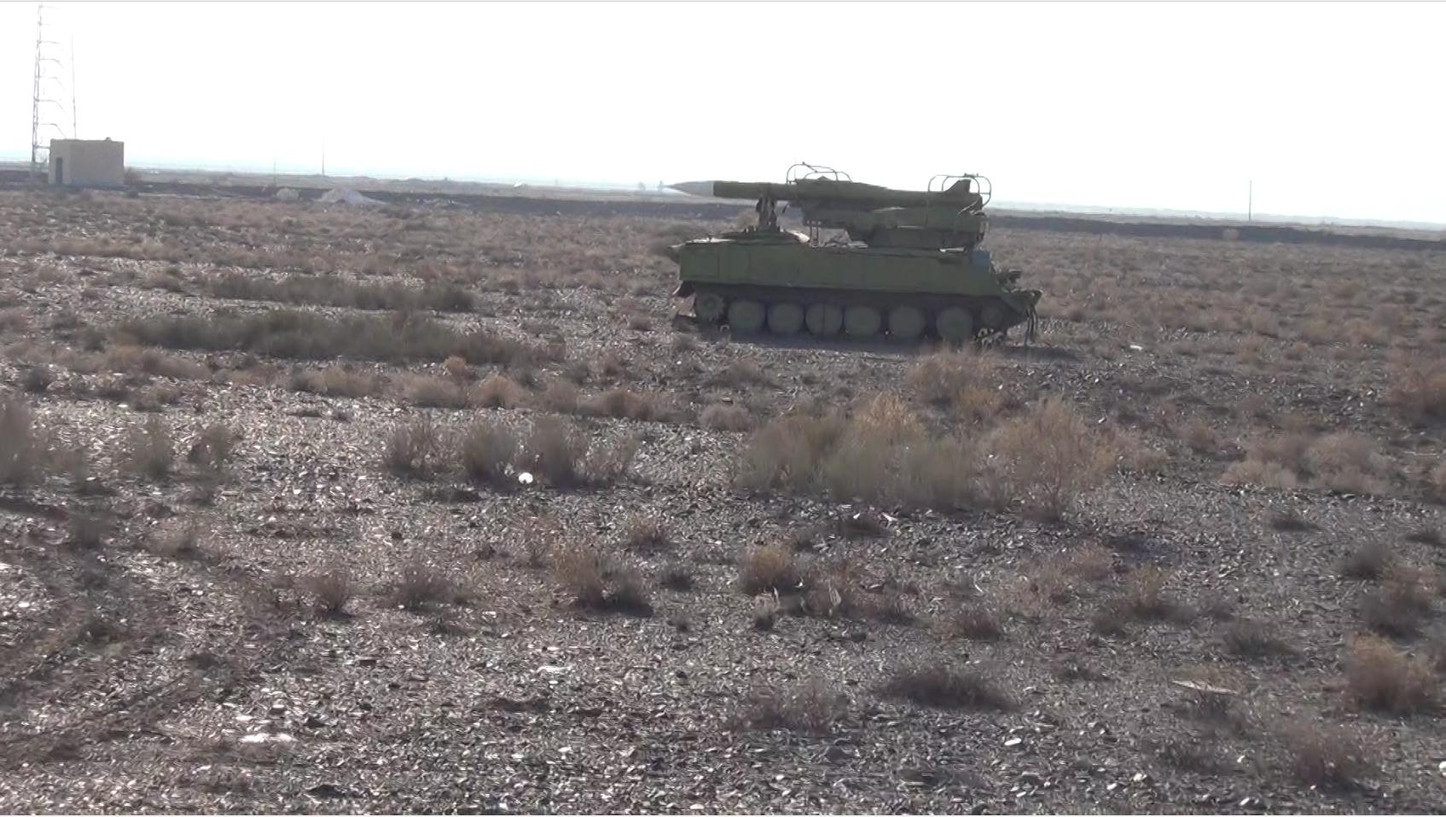armored_car: (668, 163, 1045, 357)
